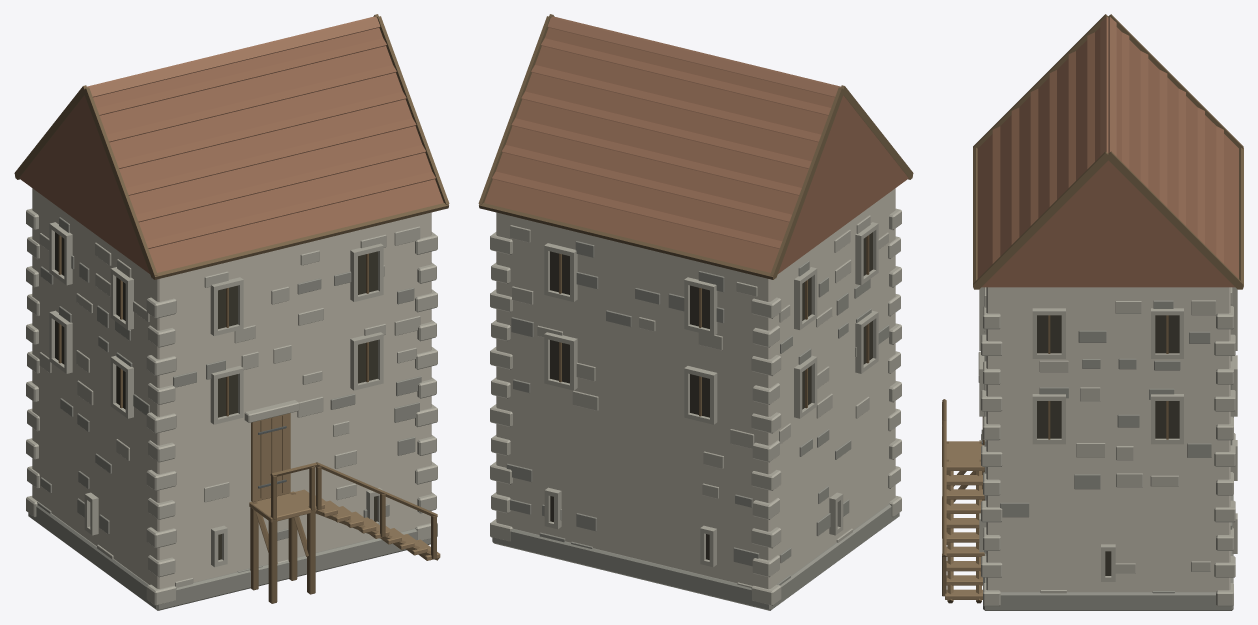
The model's file is fort_manor.glb.
The picture shows the model from 3 angles, left to right: view 1: azimuth 30°, elevation 25°; view 2: azimuth 150°, elevation 25°; view 3: azimuth 270°, elevation 25°; orthographic projection. The views are drawn at different scales.
Parts seen in each view (by area): view 1: fort_manor_fort_plaster, fort_manor_fort_roof, fort_manor_fort_stone_light, fort_manor_oak_dark, fort_manor_fort_stone_dark, fort_manor_oak, fort_manor_black, fort_manor_fort_roof_light; view 2: fort_manor_fort_plaster, fort_manor_fort_roof, fort_manor_fort_stone_light, fort_manor_fort_stone_dark, fort_manor_oak_dark, fort_manor_black, fort_manor_fort_roof_light; view 3: fort_manor_fort_plaster, fort_manor_fort_roof, fort_manor_fort_stone_light, fort_manor_oak_dark, fort_manor_fort_stone_dark, fort_manor_oak, fort_manor_black, fort_manor_fort_roof_light.
Part boxes in pixels (<box>): fort_manor_fort_plaster: <box>32,188,431,588</box>; fort_manor_fort_roof: <box>19,28,443,273</box>; fort_manor_fort_stone_light: <box>26,208,437,605</box>; fort_manor_oak_dark: <box>14,14,449,603</box>; fort_manor_fort_stone_dark: <box>28,217,430,610</box>; fort_manor_oak: <box>249,413,440,560</box>; fort_manor_black: <box>55,232,377,559</box>; fort_manor_fort_roof_light: <box>87,16,380,97</box>; fort_manor_fort_plaster: <box>496,188,895,588</box>; fort_manor_fort_roof: <box>484,28,908,273</box>; fort_manor_fort_stone_light: <box>490,208,901,605</box>; fort_manor_fort_stone_dark: <box>492,241,899,610</box>; fort_manor_oak_dark: <box>478,14,913,416</box>; fort_manor_black: <box>550,232,872,559</box>; fort_manor_fort_roof_light: <box>547,16,840,97</box>; fort_manor_fort_plaster: <box>986,287,1230,591</box>; fort_manor_fort_roof: <box>977,27,1238,287</box>; fort_manor_fort_stone_light: <box>978,287,1237,606</box>; fort_manor_oak_dark: <box>942,14,1243,603</box>; fort_manor_fort_stone_dark: <box>983,300,1233,610</box>; fort_manor_oak: <box>945,416,984,599</box>; fort_manor_black: <box>1037,315,1179,575</box>; fort_manor_fort_roof_light: <box>1100,16,1116,156</box>.
Size of the model in its own units: 6.45 by 10.02 by 5.92.
